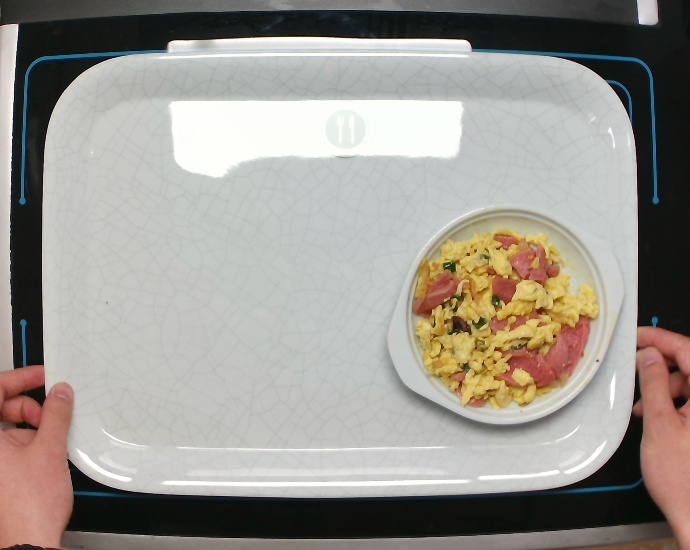JYsf-Shuang_Er_Pan: (385, 201, 626, 429)
